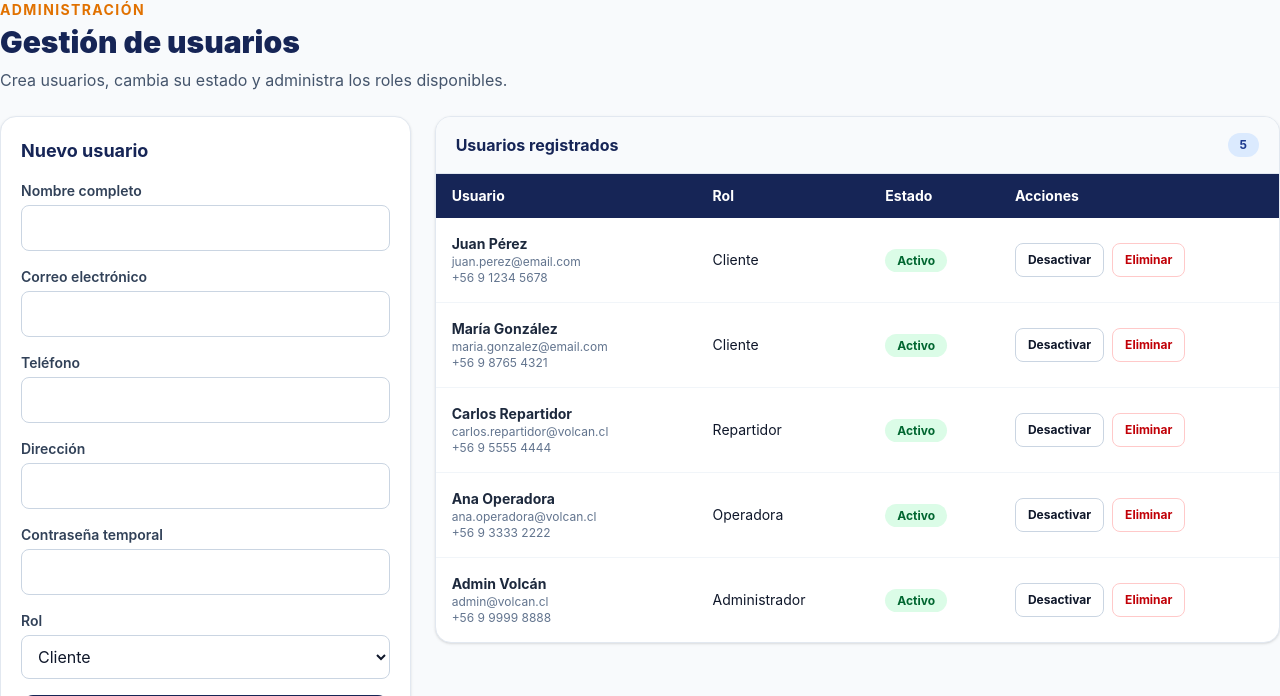
AdminUsuario · crear usuario › informa cuando el correo ya está registrado
The image size is (1280, 696).
Type "Luis Torres" into the field labelled "Nombre completo" at (205, 228), box [21, 205, 390, 251]
Type "juan.perez@email.com" into the field labelled "Correo electrónico" at (205, 314), box [21, 291, 390, 337]
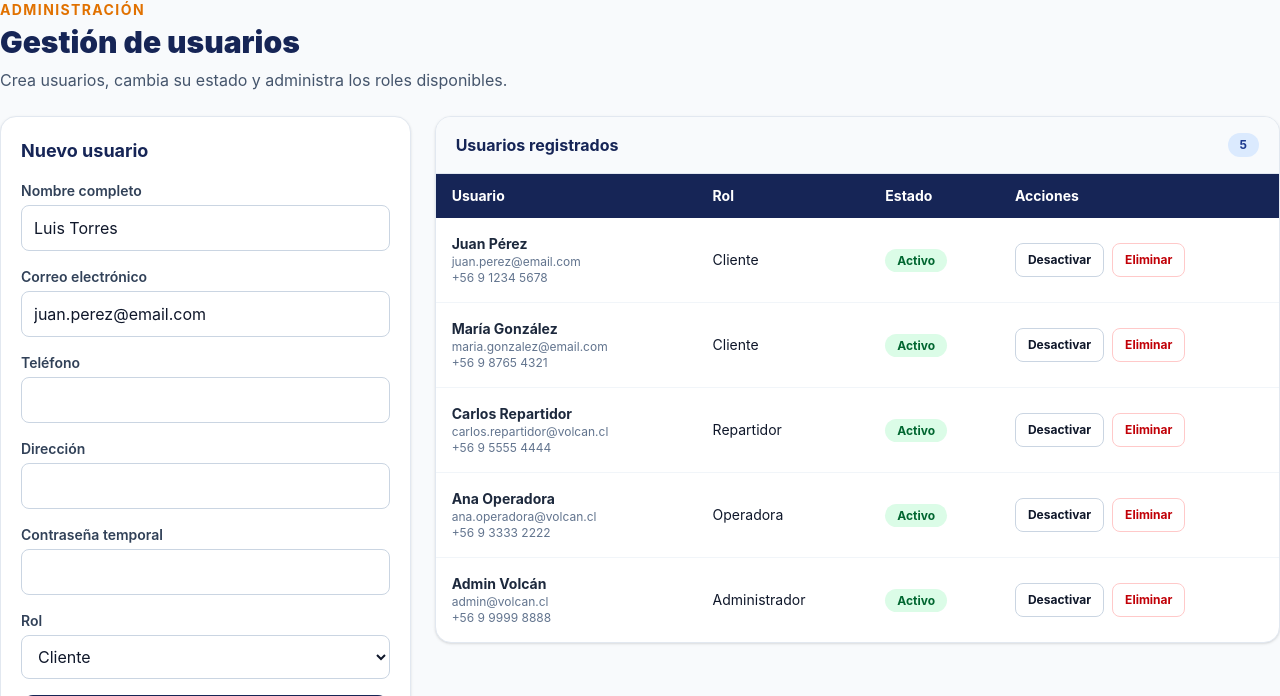
Type "+56 9 1111 2222" into the field labelled "Teléfono" at (205, 400), box [21, 377, 390, 423]
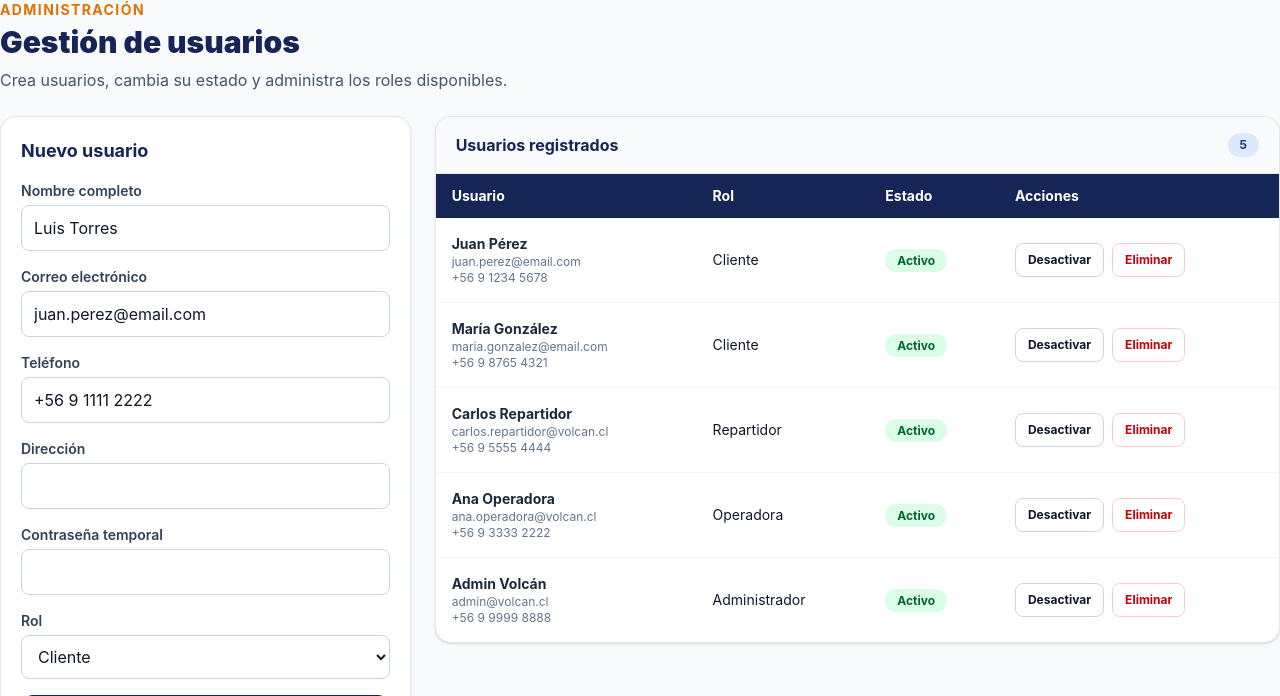
Type "Calle Falsa 123" into the field labelled "Dirección" at (205, 486), box [21, 463, 390, 509]
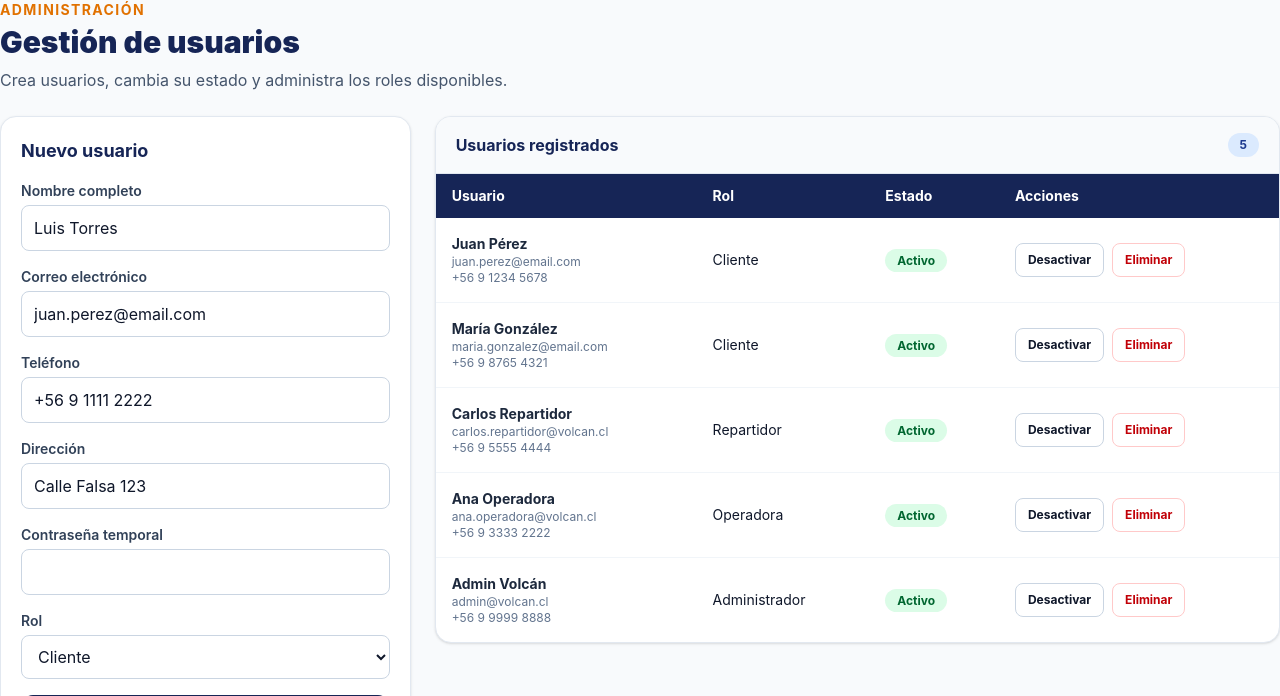
Type "secreto1" into the password field labelled "Contraseña temporal" at (205, 572), box [21, 549, 390, 595]
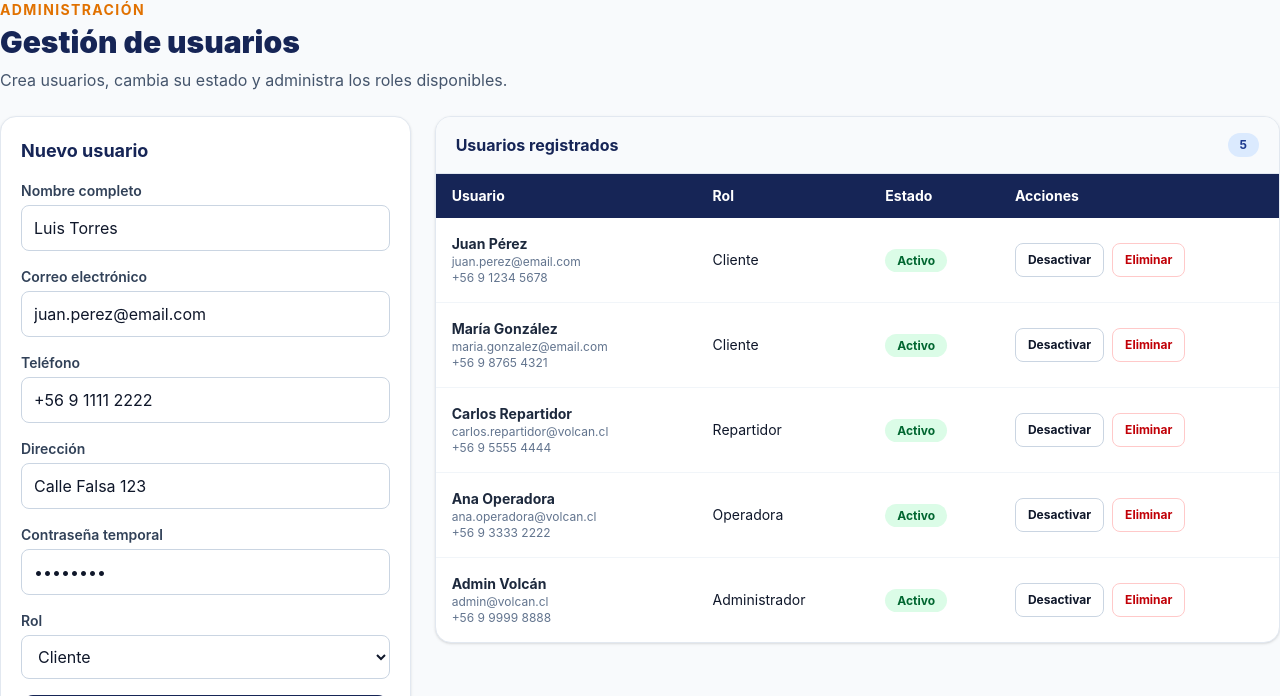
Select "Cliente" in the dropdown labelled "Rol" at (205, 657), box [21, 635, 390, 679]
(page scrolled)
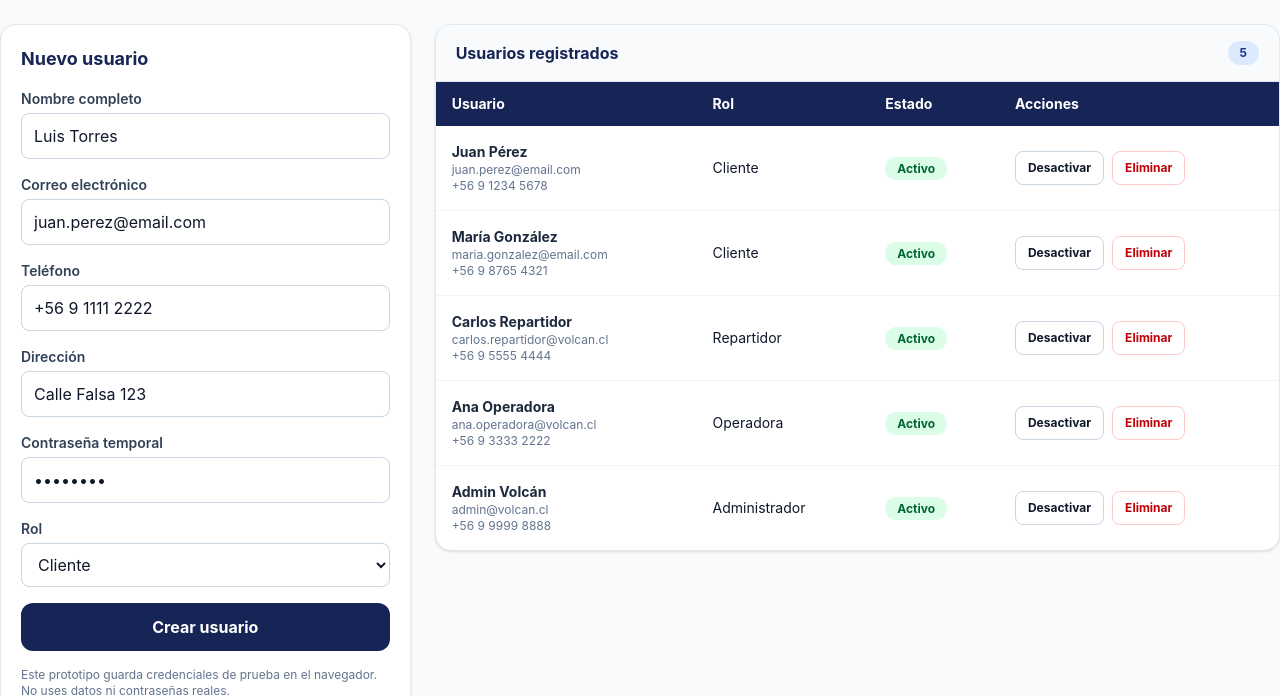
Click the button "Crear usuario" at (205, 627), box [21, 603, 390, 651]
(page scrolled)
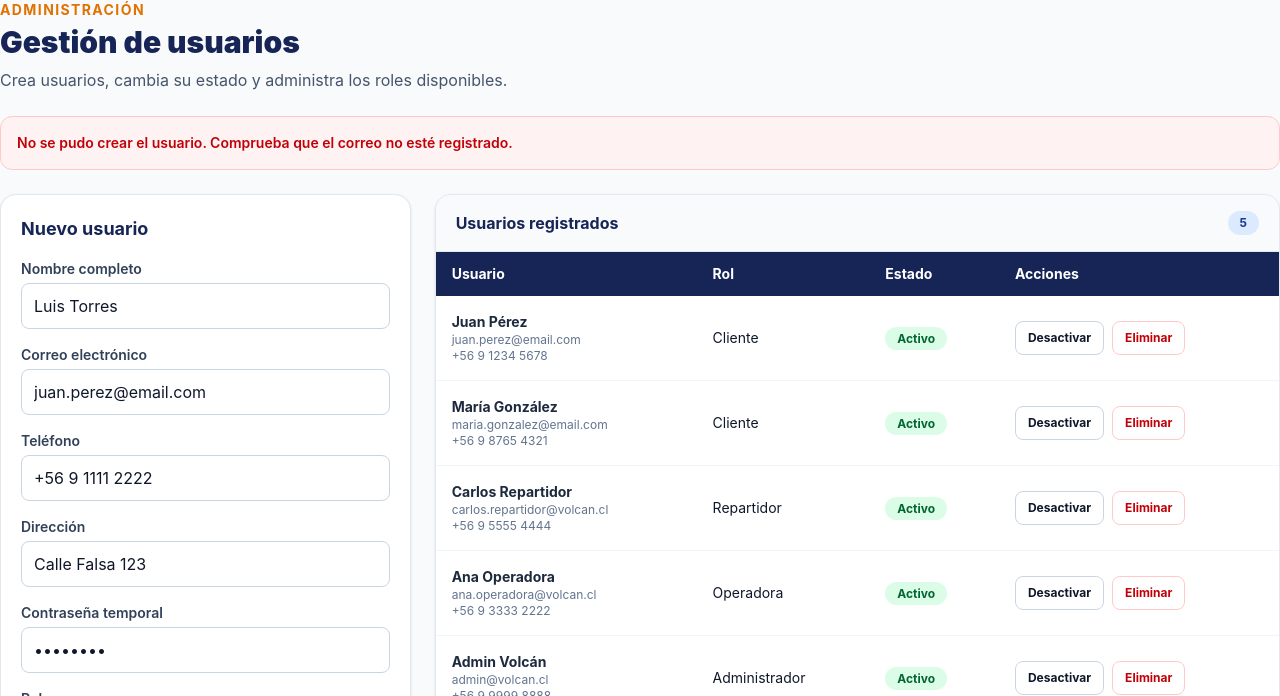
Expected: the message reads "No se pudo crear el usuario. Comprueba que el correo no esté registrado.", [17, 134, 513, 151]
